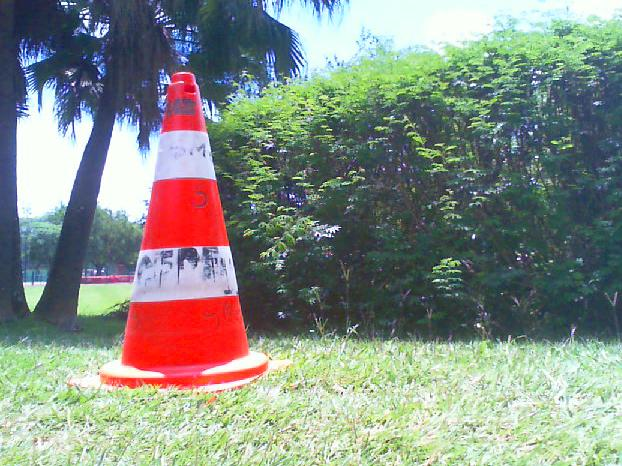0 cone: (66, 73, 293, 393)
